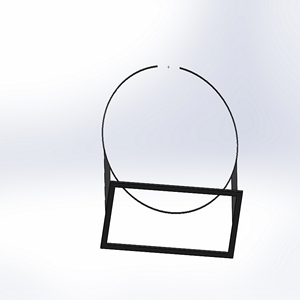circle: (99, 62, 245, 261)
